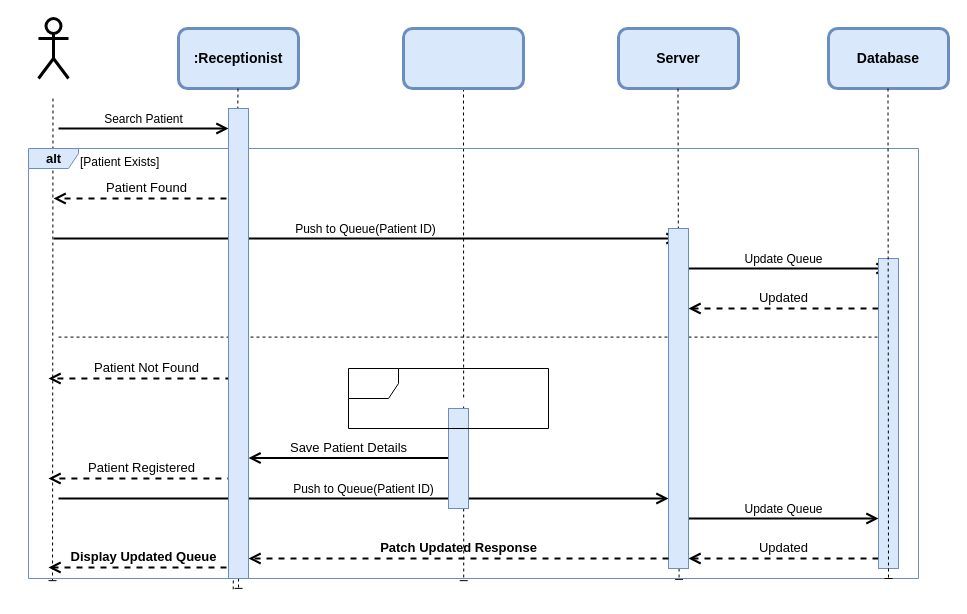
Image size: 967x614. Some labels were removed from this diagram. Here are the shapes that lost their labels. From the top down, the centre of each, then its label:
At (x=53, y=48): "Receptionist".
At (x=463, y=58): ":Patient".
